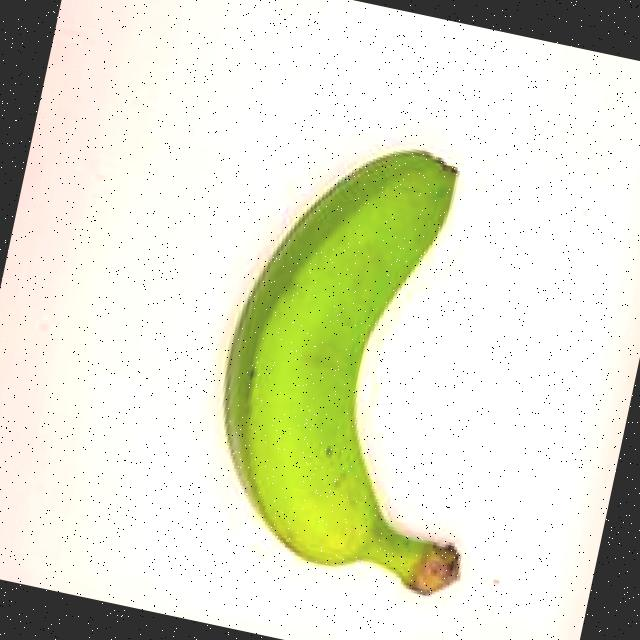Unripe: (157, 88, 584, 638)
